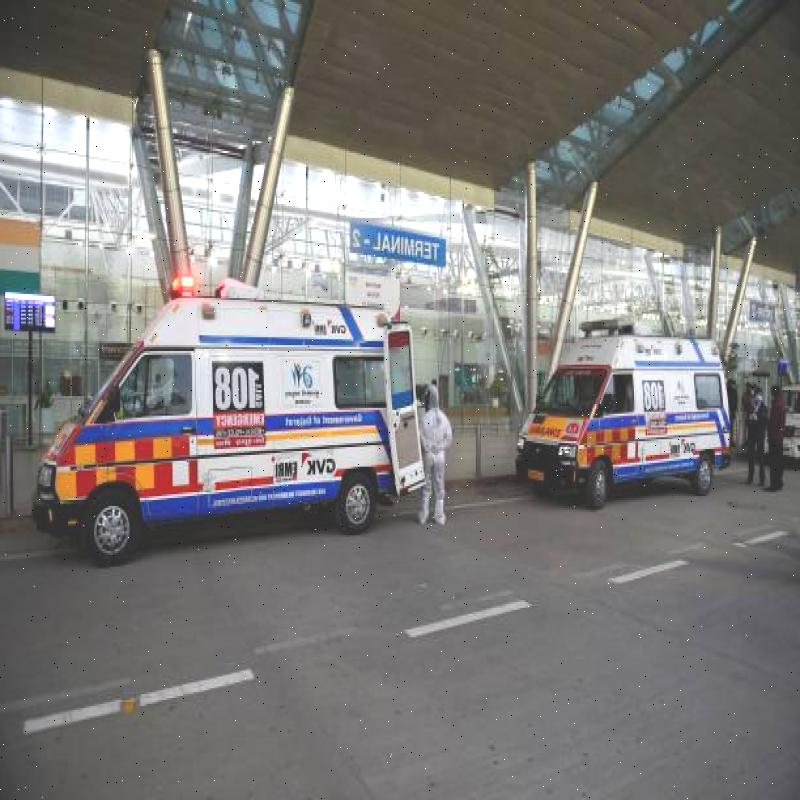ambulance: (37, 264, 423, 574)
